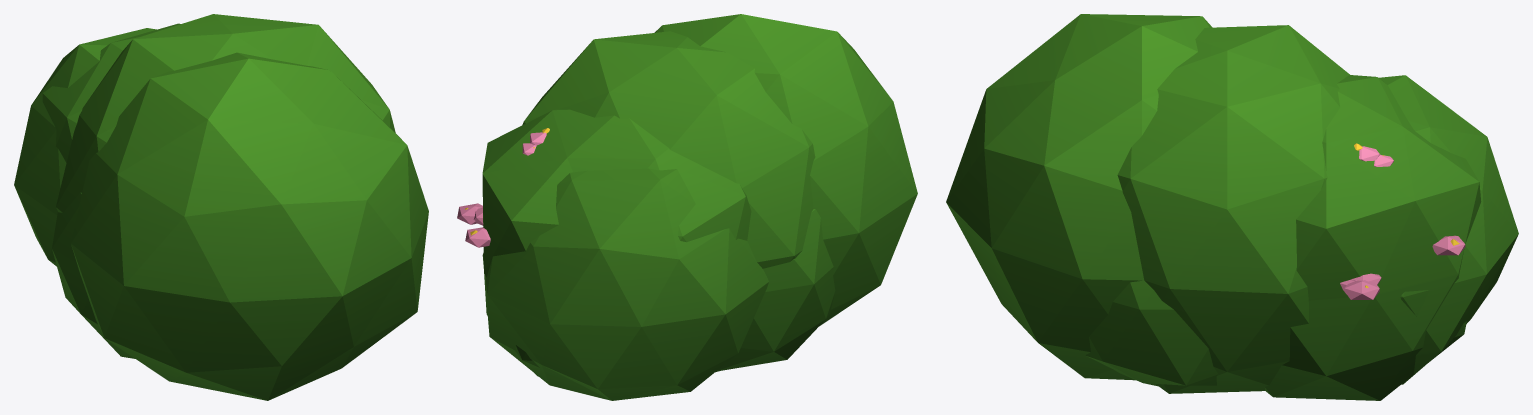
Rendered from bush_flower_01.glb.
The picture shows the model from 3 angles, left to right: view 1: azimuth 30°, elevation 25°; view 2: azimuth 150°, elevation 25°; view 3: azimuth 270°, elevation 25°; orthographic projection. The views are drawn at different scales.
Parts seen in each view (by area): view 1: bush_flower_01_LOD0; view 2: bush_flower_01_LOD0; view 3: bush_flower_01_LOD0.
Part boxes in pixels (x1,y1,x2,y2): bush_flower_01_LOD0: (14, 14, 428, 400); bush_flower_01_LOD0: (457, 14, 917, 400); bush_flower_01_LOD0: (946, 14, 1518, 400).
Size of the model in its own units: 1.08 by 1.03 by 1.52.
1 material, 1 textured.
